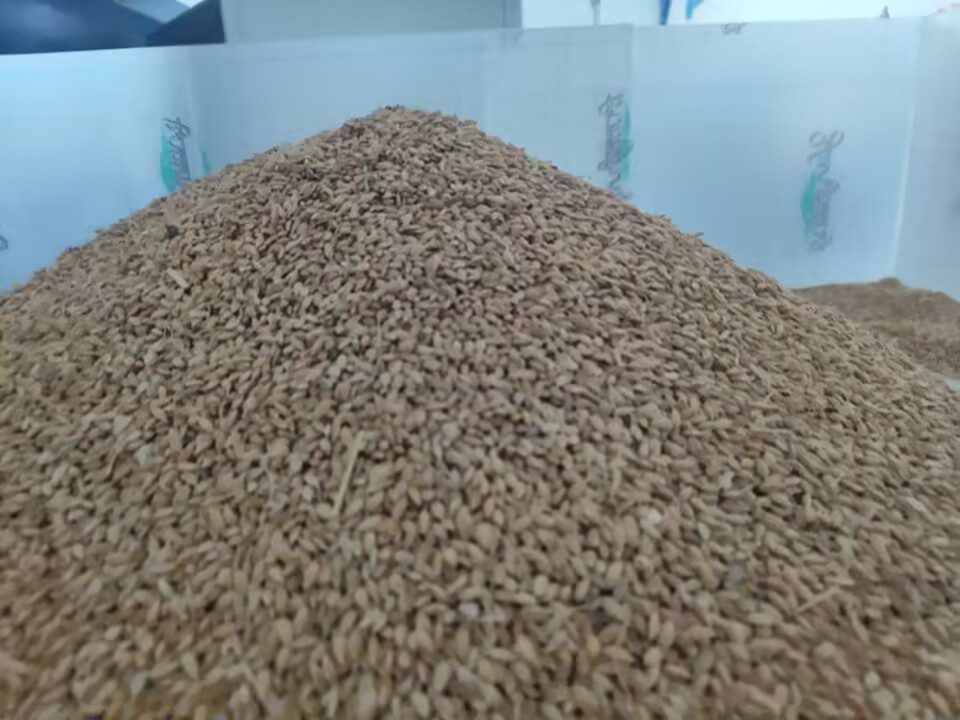Grain: (10, 99, 943, 720)
